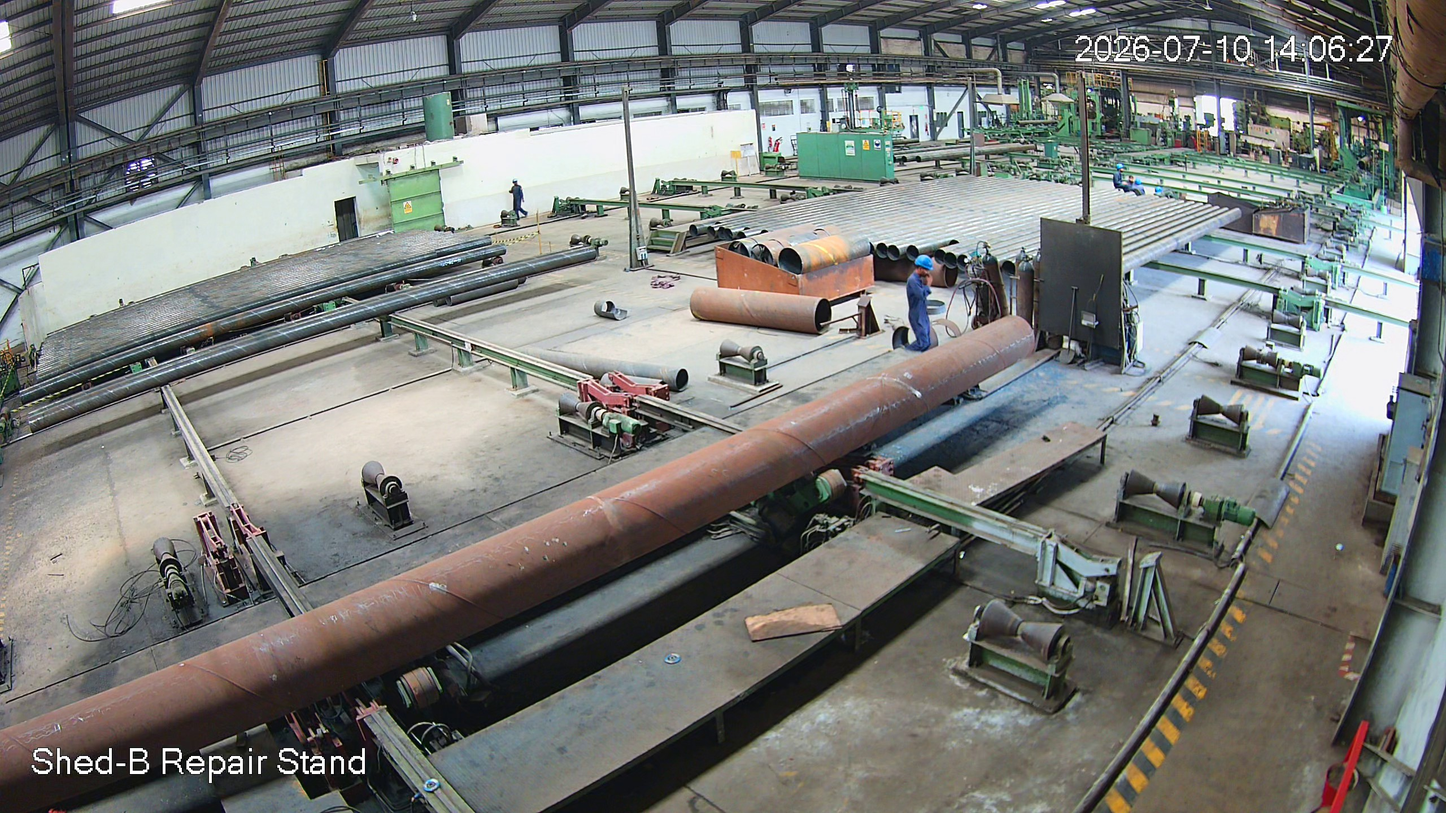Helmet: (912, 253, 939, 290)
Person: (904, 254, 941, 353)
